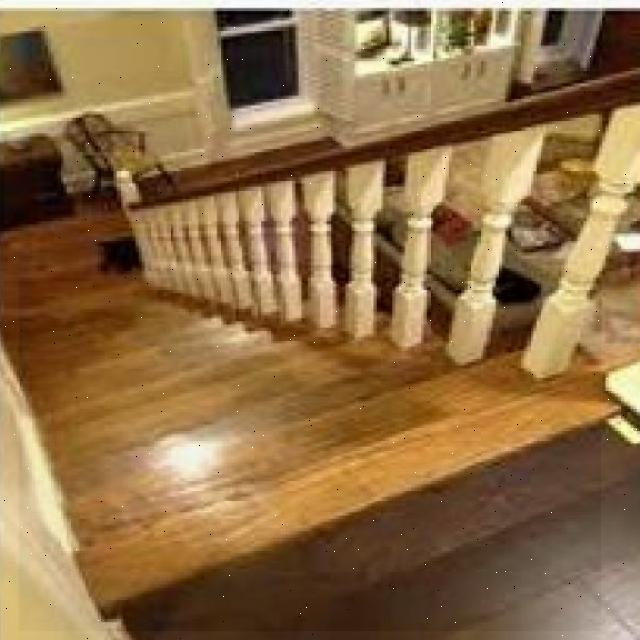stair: (19, 278, 601, 631)
